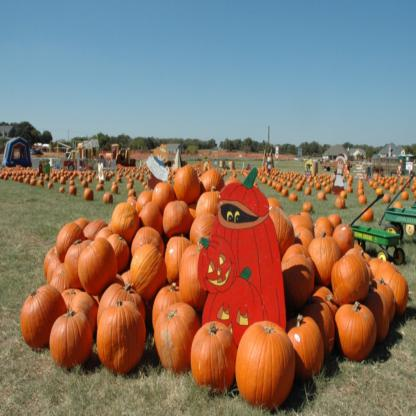Pumpkin: (0, 158, 415, 412), (0, 162, 415, 411), (235, 317, 294, 407)
